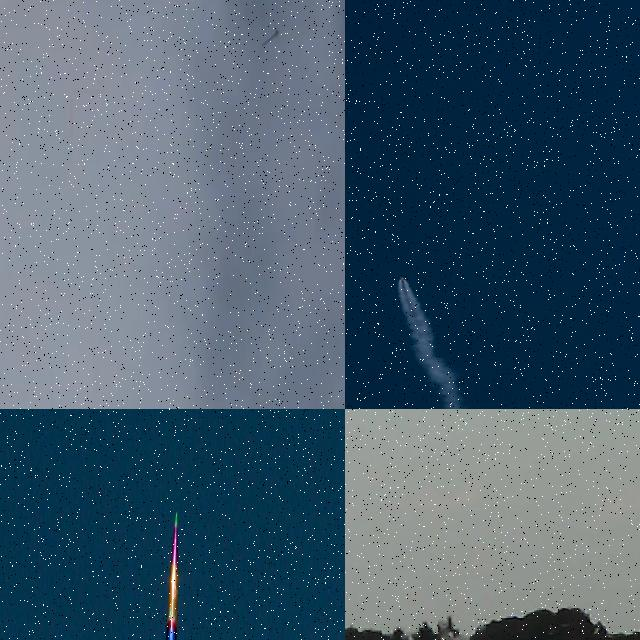Rocket: (148, 507, 180, 640), (262, 29, 279, 46), (399, 276, 406, 280)
